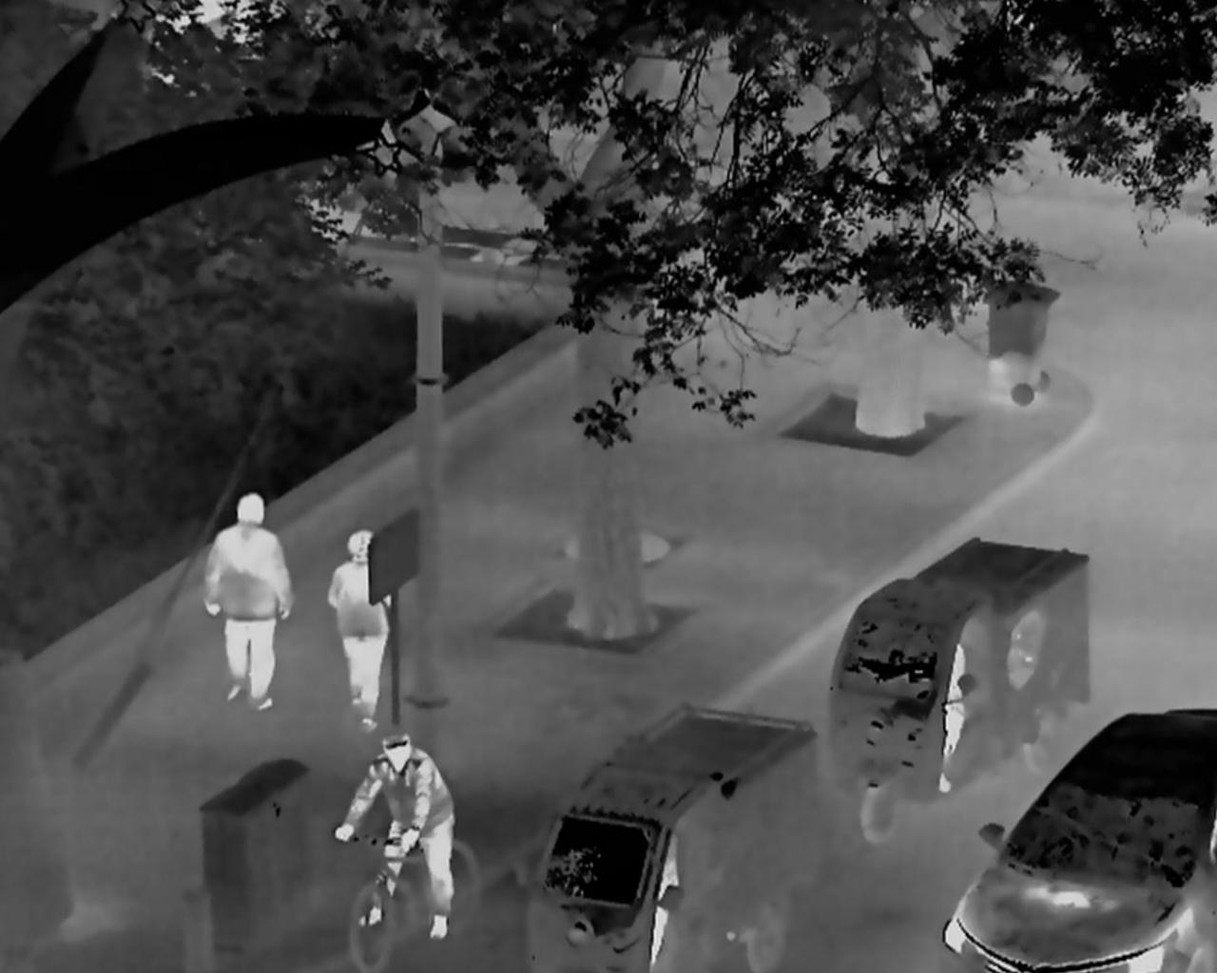person: (335, 728, 454, 942), (203, 492, 295, 710), (326, 528, 394, 731), (937, 644, 968, 794), (651, 832, 681, 965)
